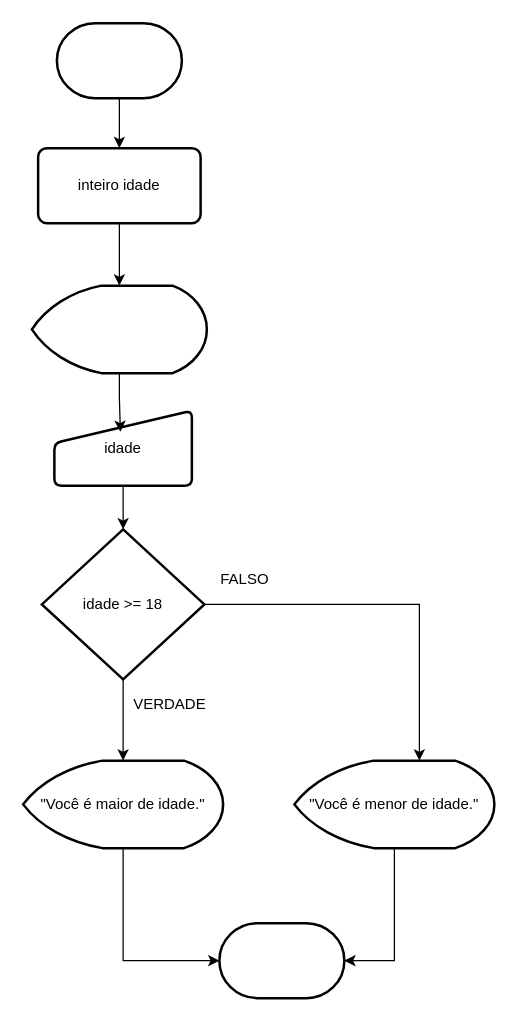
The diagram is 516 pixels wide and 1020 high, and some of its shapes have lost their labels. The shapes that lost their labels are listed below. From the top down, each one's centre as x and y in pixels, then its label:
(x=118, y=60): inicio
(x=119, y=329): "Digite sua idade: "
(x=281, y=960): fim
